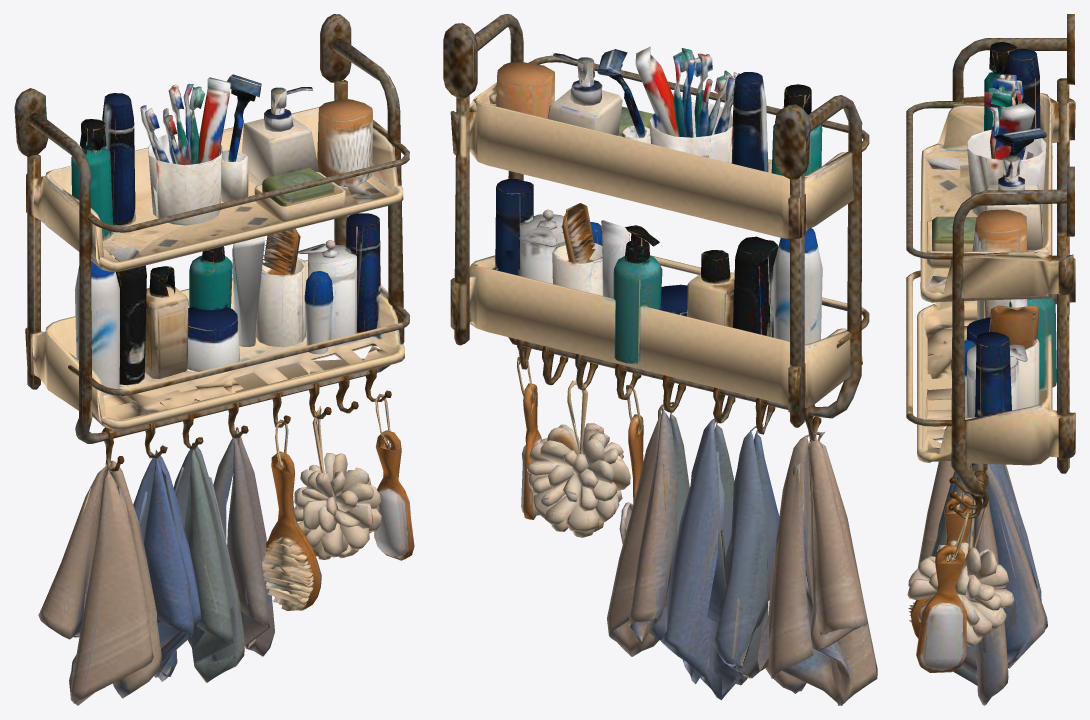
Rendered from bath_shelf.glb.
3 renders of one model, left to right at view 1: azimuth 30°, elevation 25°; view 2: azimuth 150°, elevation 25°; view 3: azimuth 270°, elevation 25°, orthographic. The views are drawn at different scales.
Visible parts, largest first — view 1: Mesh_0; view 2: Mesh_0; view 3: Mesh_0.
Boxes of the visible parts, x1=… form: Mesh_0: x1=14, y1=14, x2=414, y2=705; Mesh_0: x1=443, y1=14, x2=877, y2=705; Mesh_0: x1=906, y1=14, x2=1075, y2=705.
Bounding box in the file's own units: 0.5491 × 0.9 × 0.2272.
Materials: 1 (1 with a texture image).
